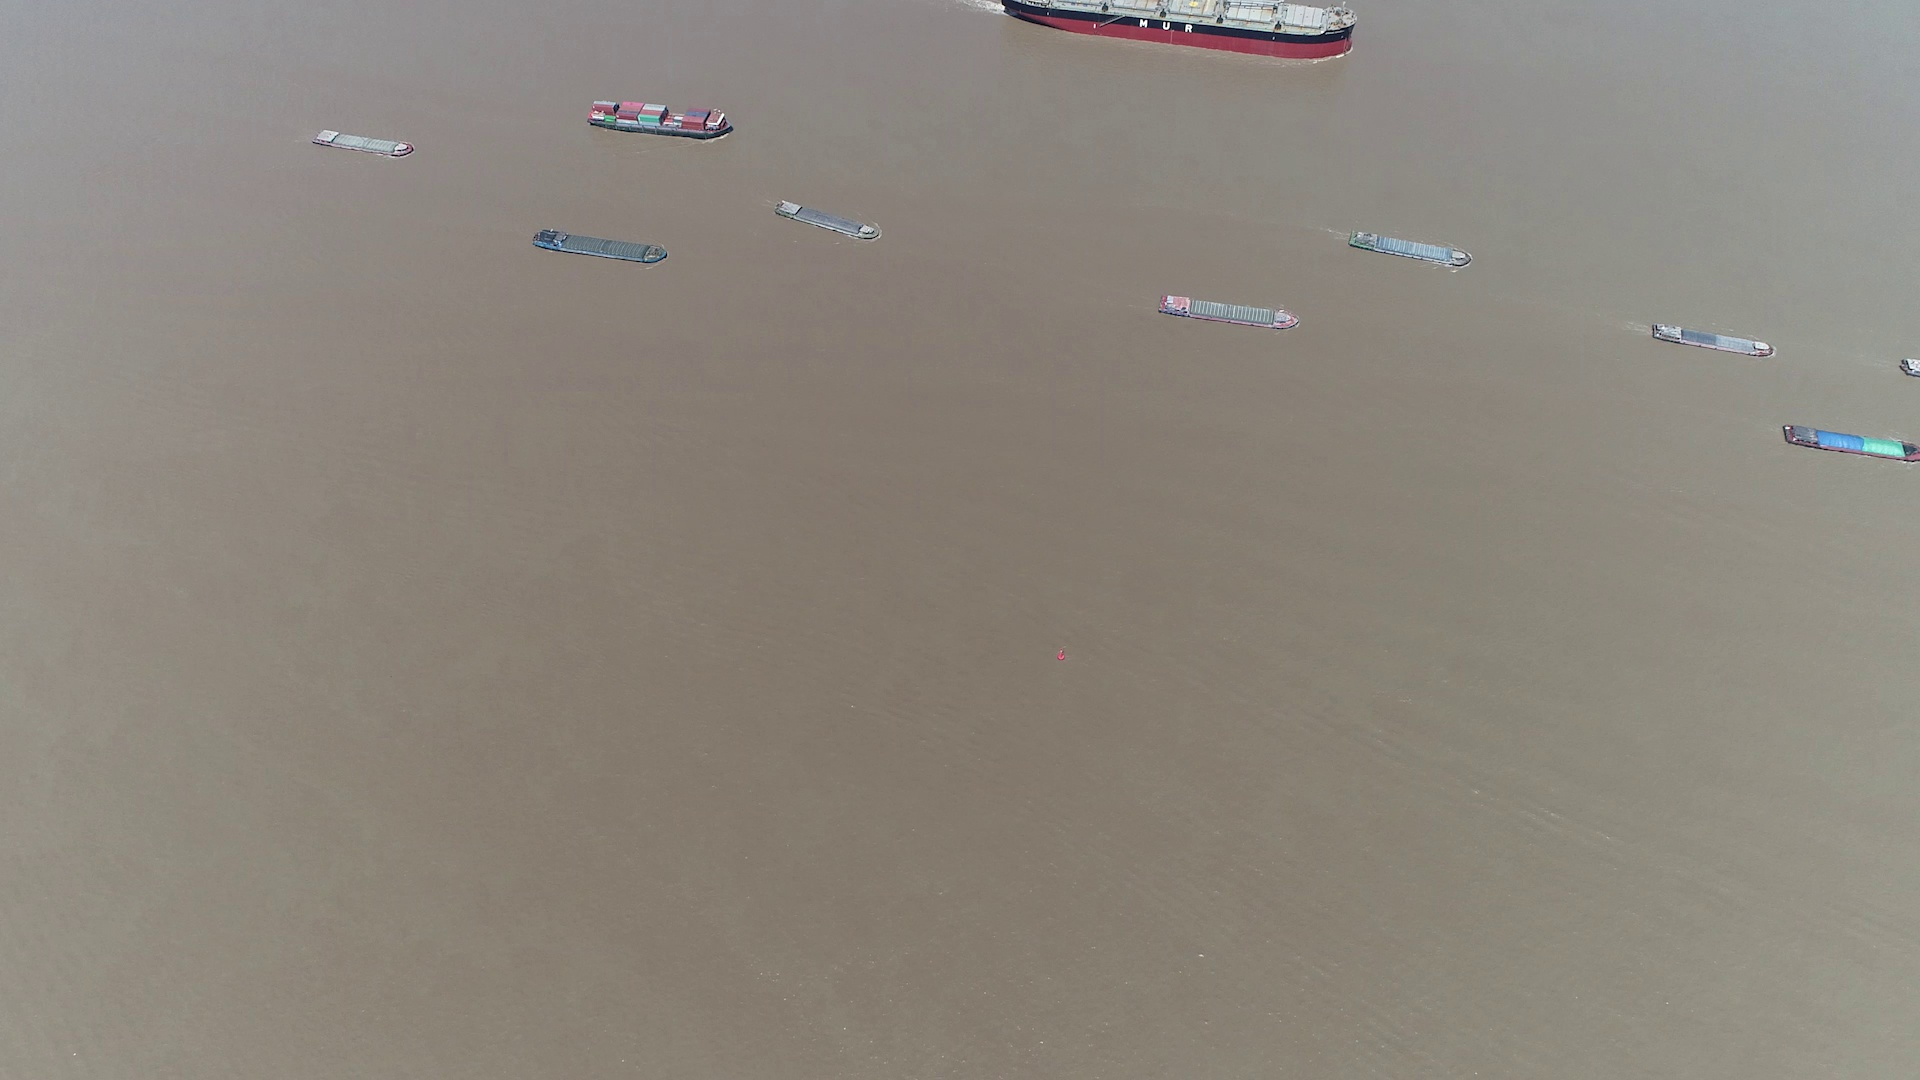ship: (1000, 0, 1356, 58), (1780, 421, 1919, 462), (589, 100, 735, 138), (1159, 293, 1300, 330), (529, 229, 670, 266), (1346, 229, 1472, 270), (771, 200, 884, 245), (1650, 323, 1774, 357), (310, 127, 414, 157), (1900, 355, 1920, 378)
